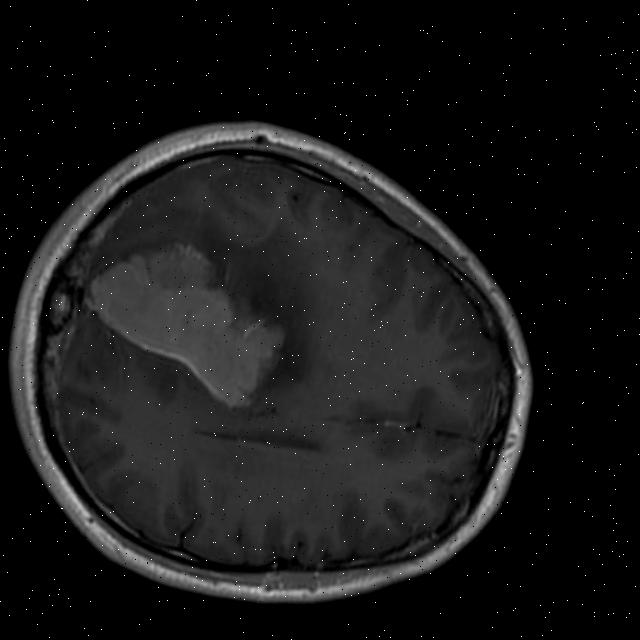Meningioma: (66, 226, 305, 418)
